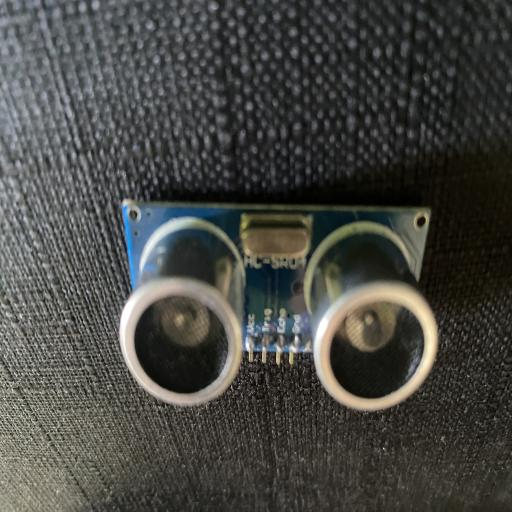Ultrasonic Sensor: (118, 197, 438, 412)
